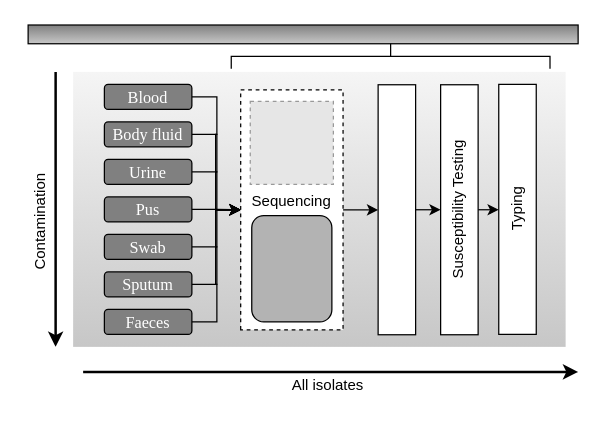
Image size: 610x425. Some labels were removed from this diagram. Grey dashed boxes stand in for pictures. The shapes that lost their labels are listed below. From the top down, each one's centre as x and y in pixels, then its label:
pixel 302 34: All Samples
pixel 390 55: up to 12 hours
pixel 396 209: Species Identification
pixel 291 268: Read Processing and Assembly
